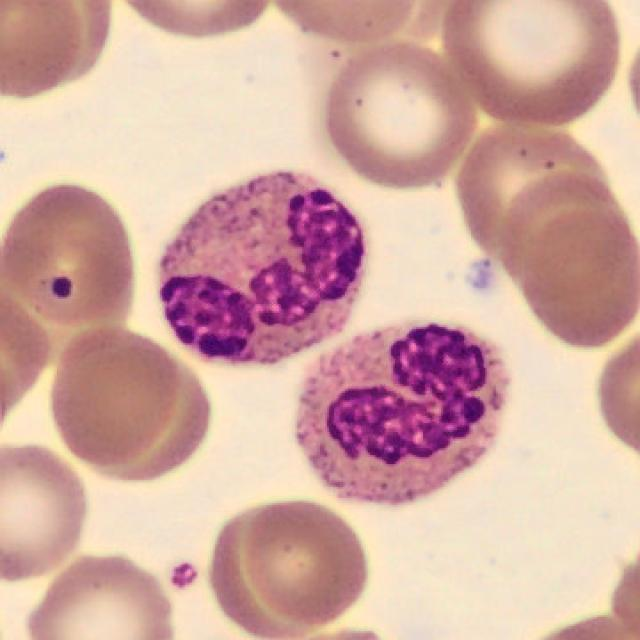Neutrofilo segmentado: (160, 171, 363, 363), (297, 327, 507, 501)
